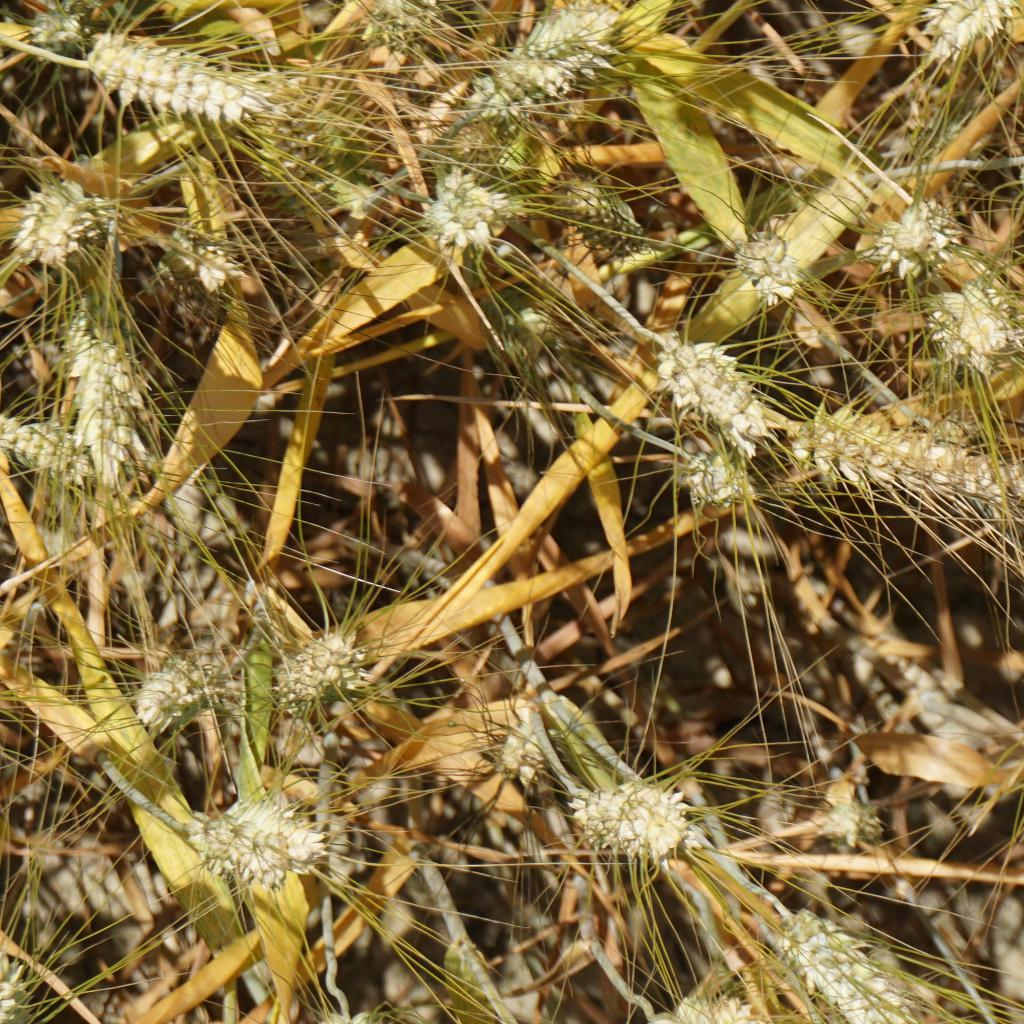0-0: (790, 391, 1024, 518), (782, 913, 932, 1022), (483, 0, 614, 123), (91, 36, 246, 124), (191, 792, 338, 881), (241, 70, 335, 198), (576, 784, 719, 867), (63, 320, 148, 459), (670, 335, 774, 438), (912, 280, 1022, 371), (555, 177, 664, 265), (14, 168, 97, 270), (418, 174, 516, 259), (855, 204, 963, 275), (715, 222, 805, 307), (266, 635, 366, 709), (0, 414, 97, 487), (159, 227, 242, 307), (128, 659, 219, 730), (916, 0, 1024, 52), (474, 718, 546, 788), (495, 297, 566, 364), (681, 451, 748, 515), (817, 793, 892, 846), (376, 0, 462, 38), (0, 942, 37, 1024), (36, 1, 86, 52)
